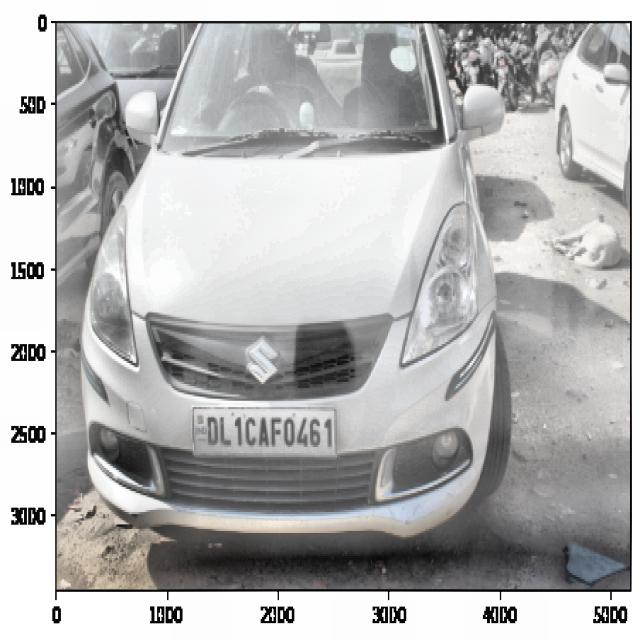license_plate: (203, 408, 336, 457)
